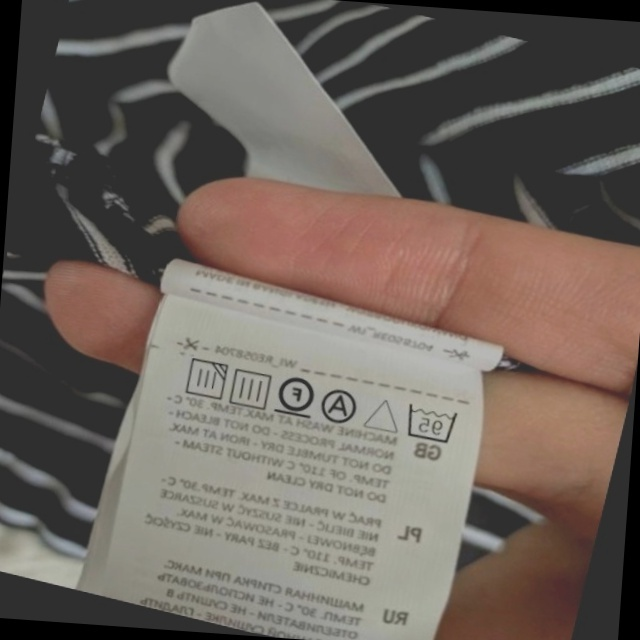95C: (398, 397, 463, 449)
bleach: (361, 389, 406, 439)
drip_dry: (224, 362, 277, 414)
drip_dry_in_shade: (176, 352, 231, 406)
dry_clean: (317, 383, 364, 429)
dry_clean_petrol_only: (271, 367, 320, 422)
